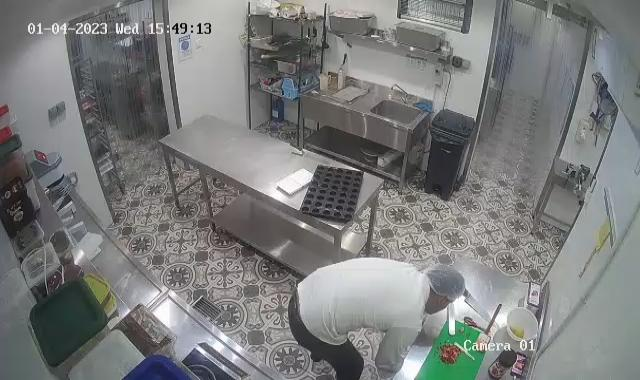hairnet: (426, 261, 465, 309)
